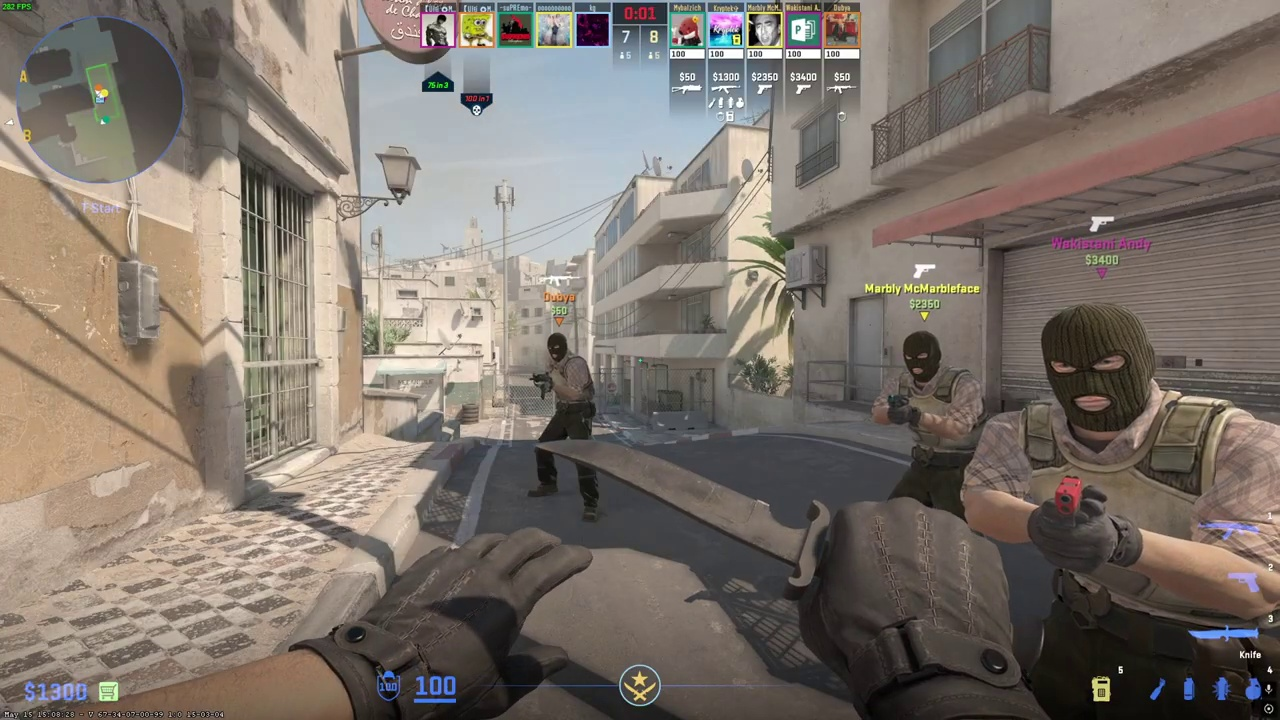Terrorist: (974, 302, 1280, 720), (879, 330, 981, 518), (527, 332, 599, 524)
